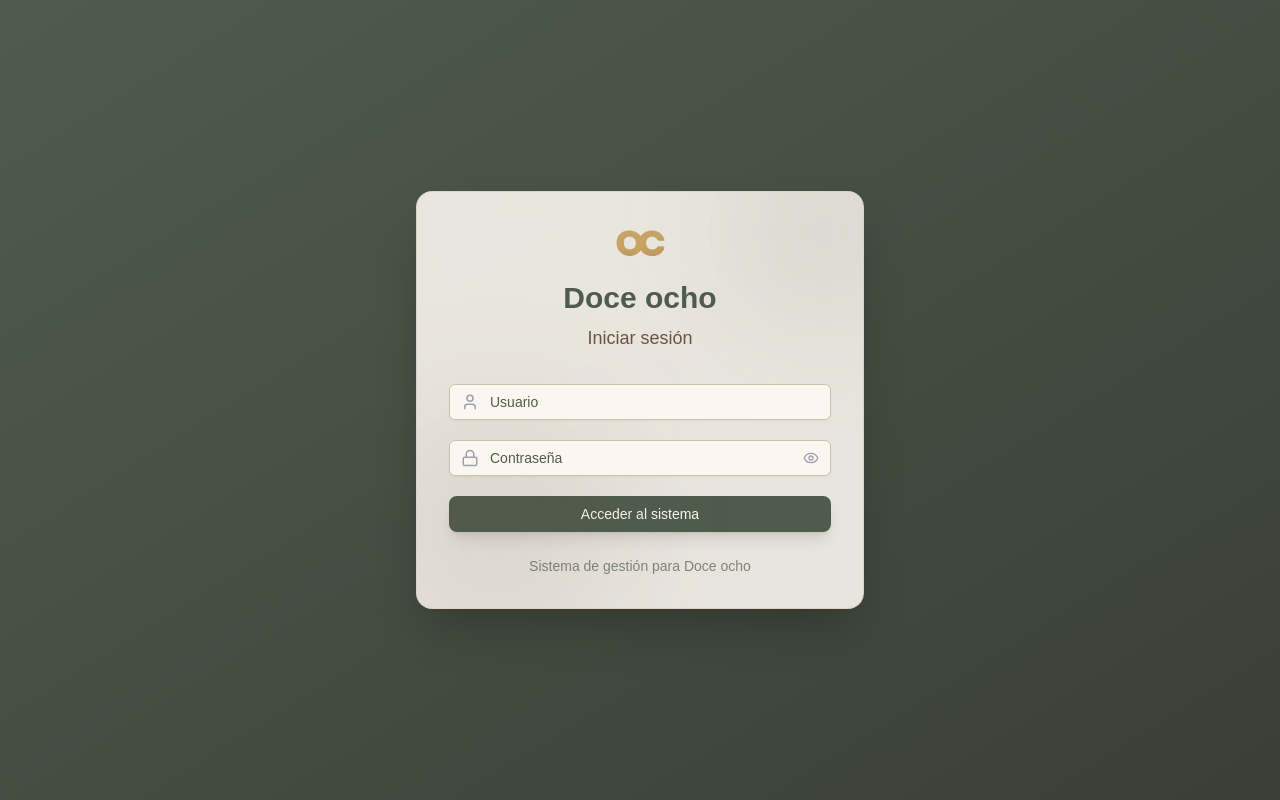
it: LoginPage › shows loading spinner during redirect
Type "admin" into the field with placeholder "Usuario" at (640, 402), box [449,384,831,420]
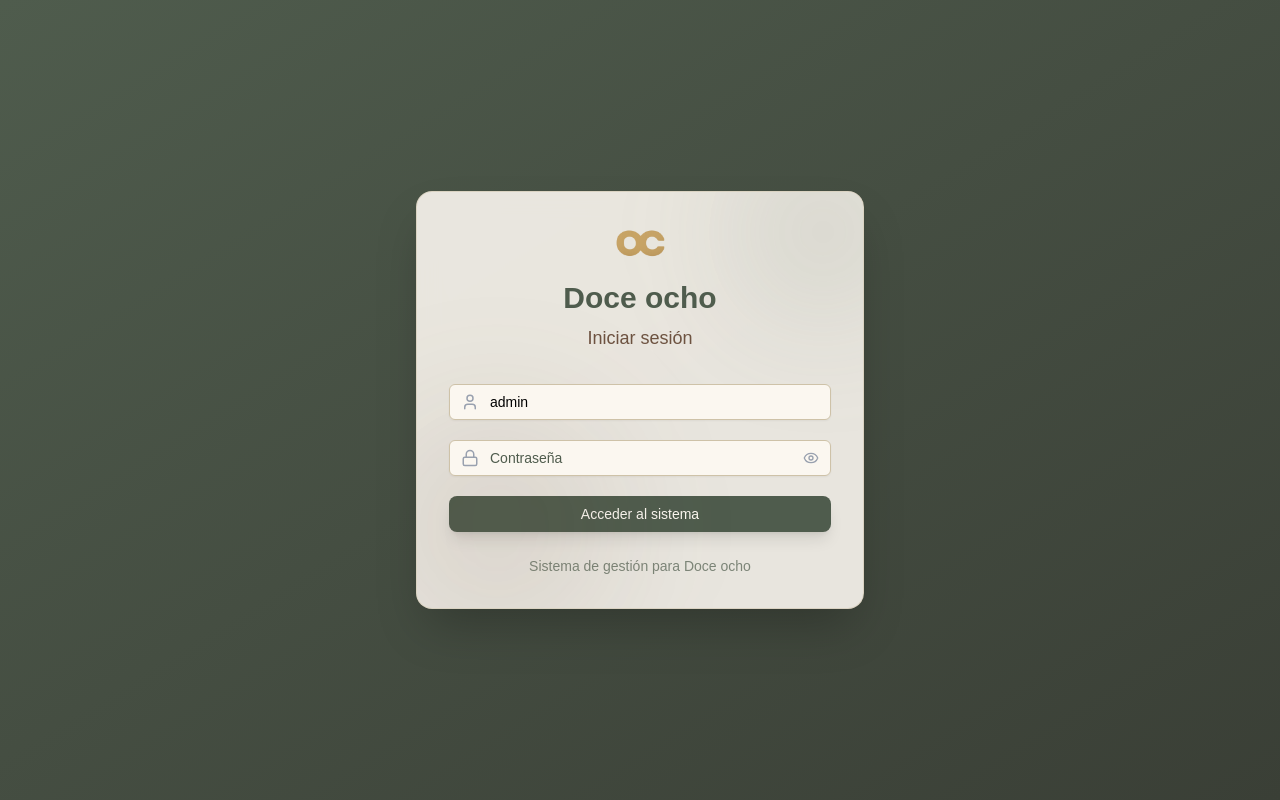
Type "pass" into the password field with placeholder "Contraseña" at (640, 458), box [449,440,831,476]
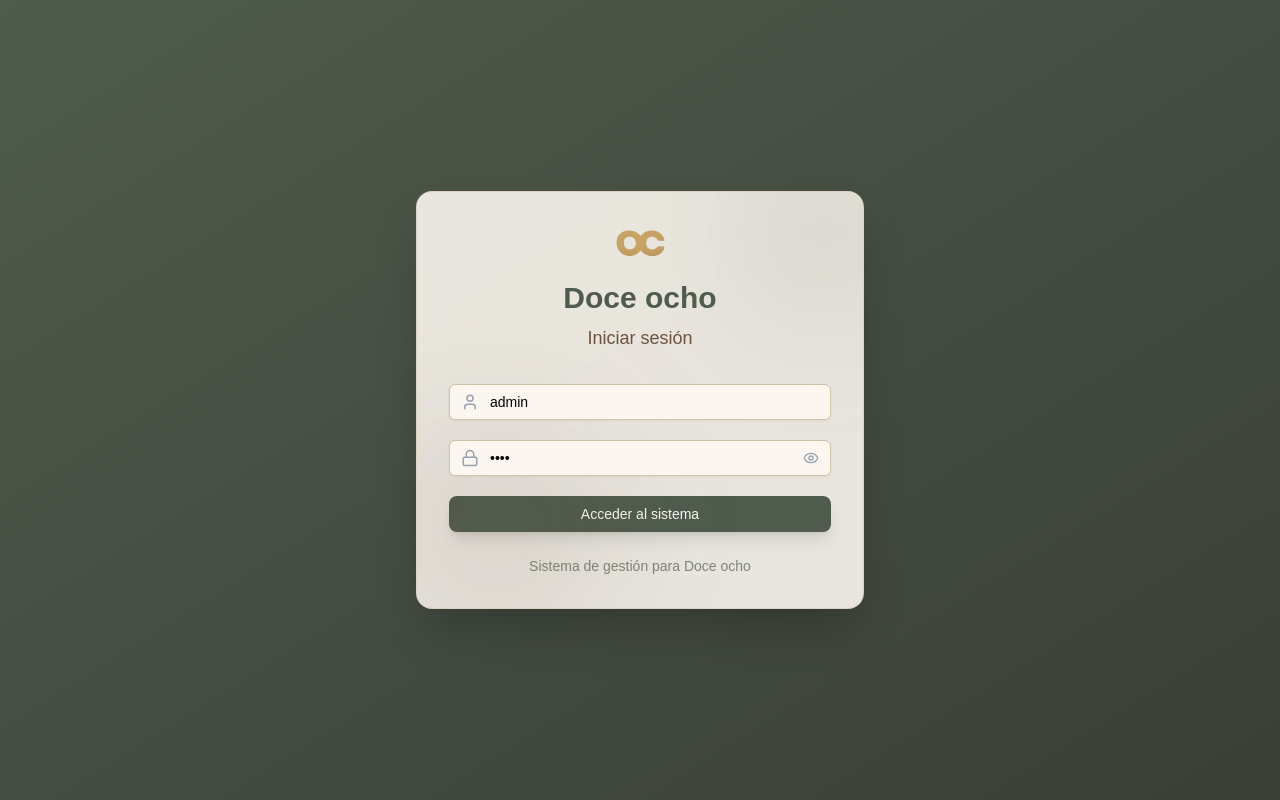
Click the button "Acceder al sistema" at (640, 514), box [449,496,831,532]
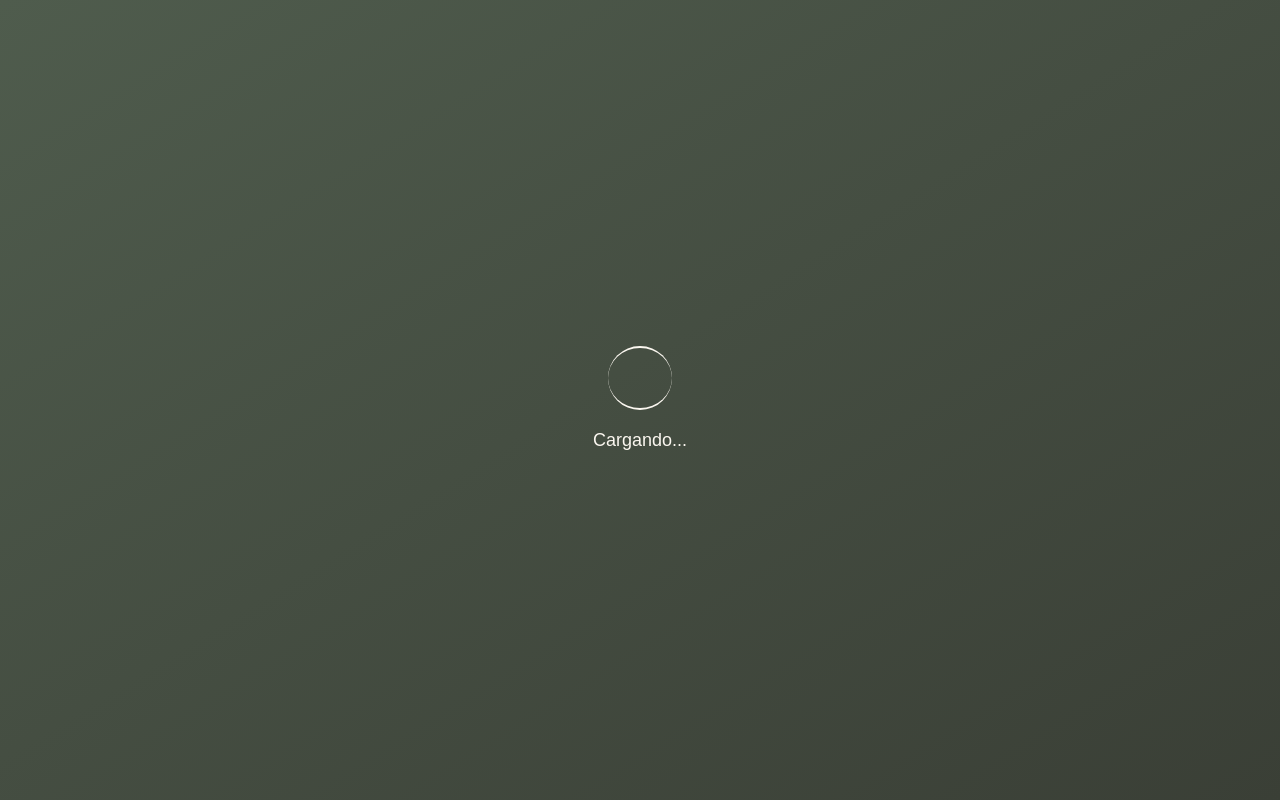
Now the text "Cargando..." is shown, box [593,426,687,454]
